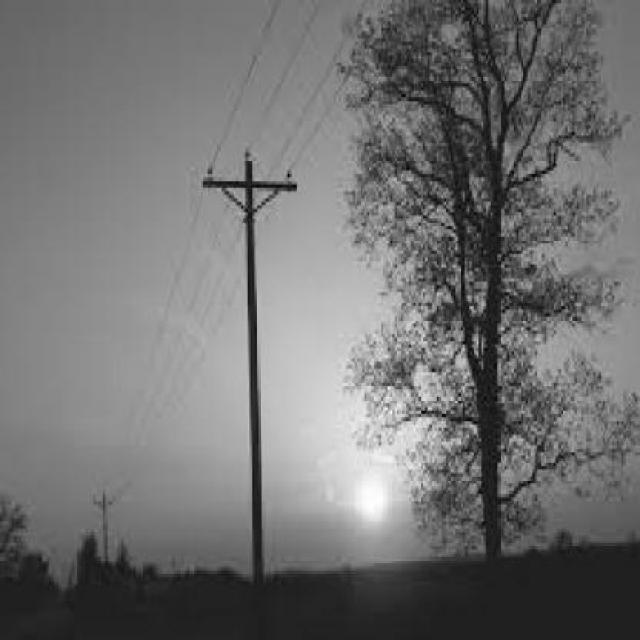pole: (201, 145, 304, 567)
